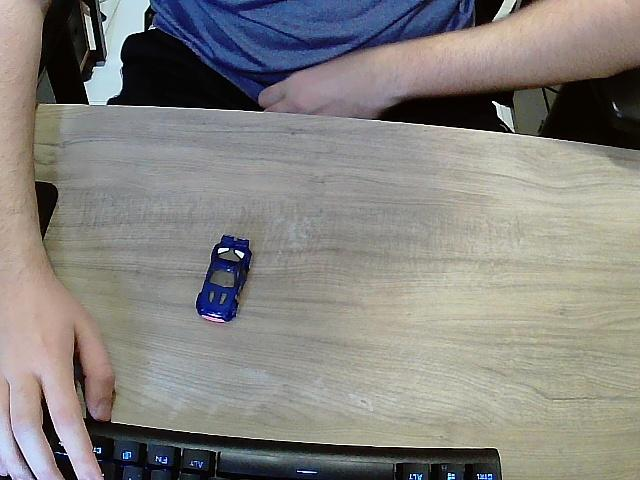Carro: (197, 235, 253, 325)
